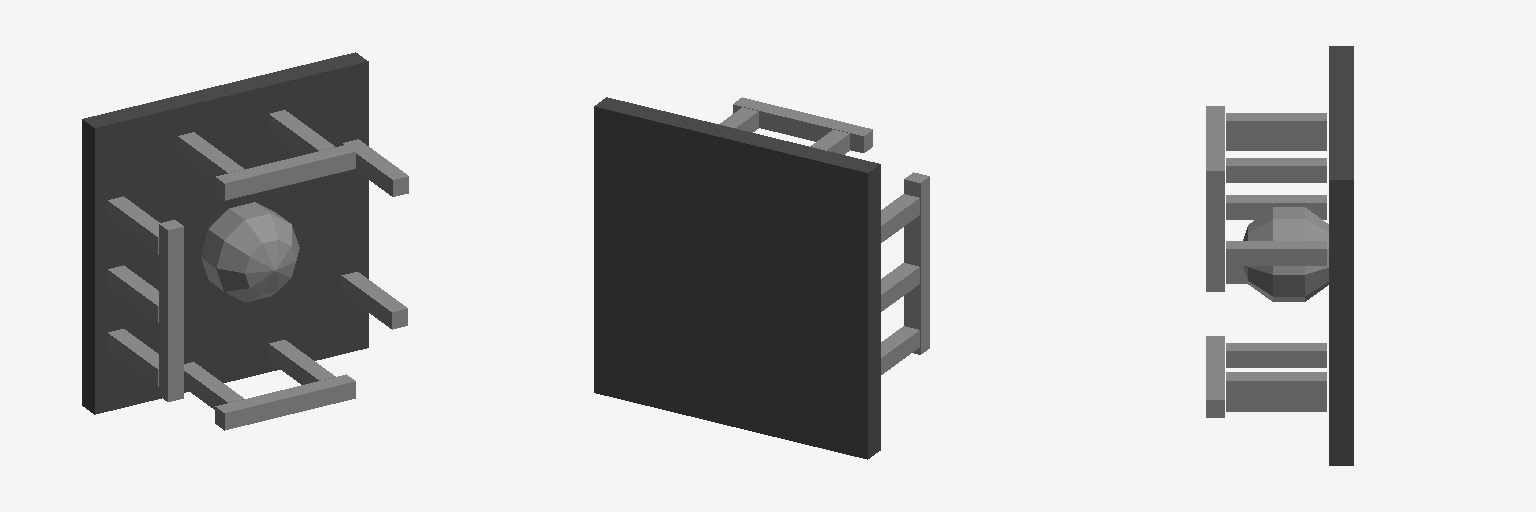
The model's file is escenaAlexandra.obj.
3 renders of one model, left to right at view 1: azimuth 30°, elevation 25°; view 2: azimuth 150°, elevation 25°; view 3: azimuth 270°, elevation 25°, orthographic.
Visible parts, largest first — view 1: Box01, Sphere01, Box09, Box04, Box06, Box13, Box12, Box10, Box08, Box11, Box02, Box05 (+2 smaller); view 2: Box01, Box09, Box04, Box08, Box10, Box11, Box02, Box03; view 3: Box01, Sphere01, Box13, Box02, Box03, Box07, Box12, Box09, Box11, Box04, Box06, Box05 (+1 smaller).
Boxes of the visible parts, box(x1,y1,x2,y2) form: Box01: box(82, 52, 368, 414); Sphere01: box(201, 202, 299, 302); Box09: box(159, 220, 183, 401); Box04: box(215, 145, 355, 200); Box06: box(215, 374, 355, 430); Box13: box(341, 272, 407, 329); Box12: box(342, 139, 408, 196); Box10: box(107, 196, 159, 254); Box08: box(107, 329, 158, 386); Box11: box(107, 265, 158, 322); Box02: box(178, 132, 244, 179); Box05: box(269, 340, 335, 384); Box01: box(594, 97, 880, 459); Box09: box(904, 172, 929, 354); Box04: box(733, 97, 872, 152); Box08: box(881, 326, 919, 374); Box10: box(881, 194, 919, 242); Box11: box(881, 263, 919, 311); Box02: box(810, 129, 849, 154); Box03: box(719, 107, 758, 132); Box01: box(1329, 46, 1353, 465); Sphere01: box(1242, 207, 1328, 301); Box13: box(1226, 372, 1326, 397); Box02: box(1226, 113, 1326, 137); Box03: box(1226, 158, 1326, 182); Box07: box(1226, 343, 1326, 367); Box12: box(1226, 241, 1326, 265); Box09: box(1206, 188, 1224, 291); Box11: box(1226, 195, 1326, 219); Box04: box(1206, 106, 1224, 187); Box06: box(1206, 336, 1224, 417); Box05: box(1226, 398, 1326, 411).
Size of the model in its own units: 25 by 25 by 11.71.